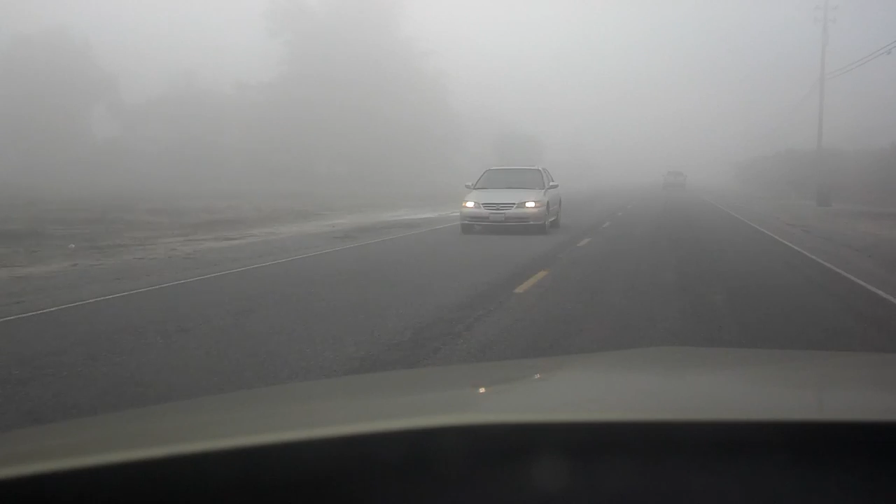car: (459, 165, 562, 233), (660, 168, 689, 189)
